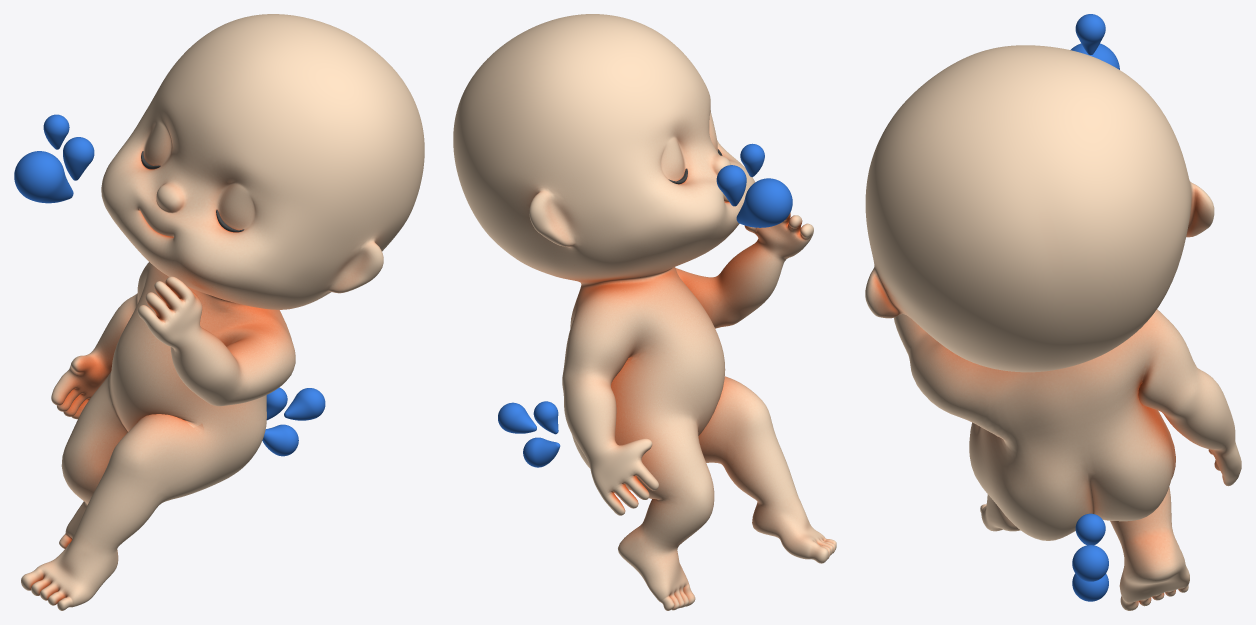
3 views of the same model, side by side, from view 1: azimuth 30°, elevation 25°; view 2: azimuth 150°, elevation 25°; view 3: azimuth 270°, elevation 25° (orthographic). The views are drawn at different scales.
Parts seen in each view (by area): view 1: Roundcube.004, Roundcube.012, Roundcube.011, Roundcube.009, Roundcube.013, Roundcube.010; view 2: Roundcube.004, Roundcube.012, Roundcube.009, Roundcube.011, Roundcube.013, Roundcube.014, Roundcube.010; view 3: Roundcube.004, Roundcube.011, Roundcube.010, Roundcube.014, Roundcube.013.
Part boxes in pixels (<box>): Roundcube.004: <box>21,14,424,610</box>; Roundcube.012: <box>14,151,73,203</box>; Roundcube.011: <box>284,388,325,420</box>; Roundcube.009: <box>63,137,94,180</box>; Roundcube.013: <box>262,424,298,456</box>; Roundcube.010: <box>43,114,69,149</box>; Roundcube.004: <box>453,14,836,610</box>; Roundcube.012: <box>736,178,792,227</box>; Roundcube.009: <box>716,165,746,206</box>; Roundcube.011: <box>498,402,536,433</box>; Roundcube.013: <box>523,437,560,467</box>; Roundcube.014: <box>533,401,558,434</box>; Roundcube.010: <box>740,143,764,177</box>; Roundcube.004: <box>865,45,1241,610</box>; Roundcube.011: <box>1072,545,1108,581</box>; Roundcube.010: <box>1075,14,1105,55</box>; Roundcube.014: <box>1075,513,1105,545</box>; Roundcube.013: <box>1072,573,1108,601</box>.
Bounding box in the file's own units: 2.85 × 3.9 × 2.11.
2 materials, 1 textured.
